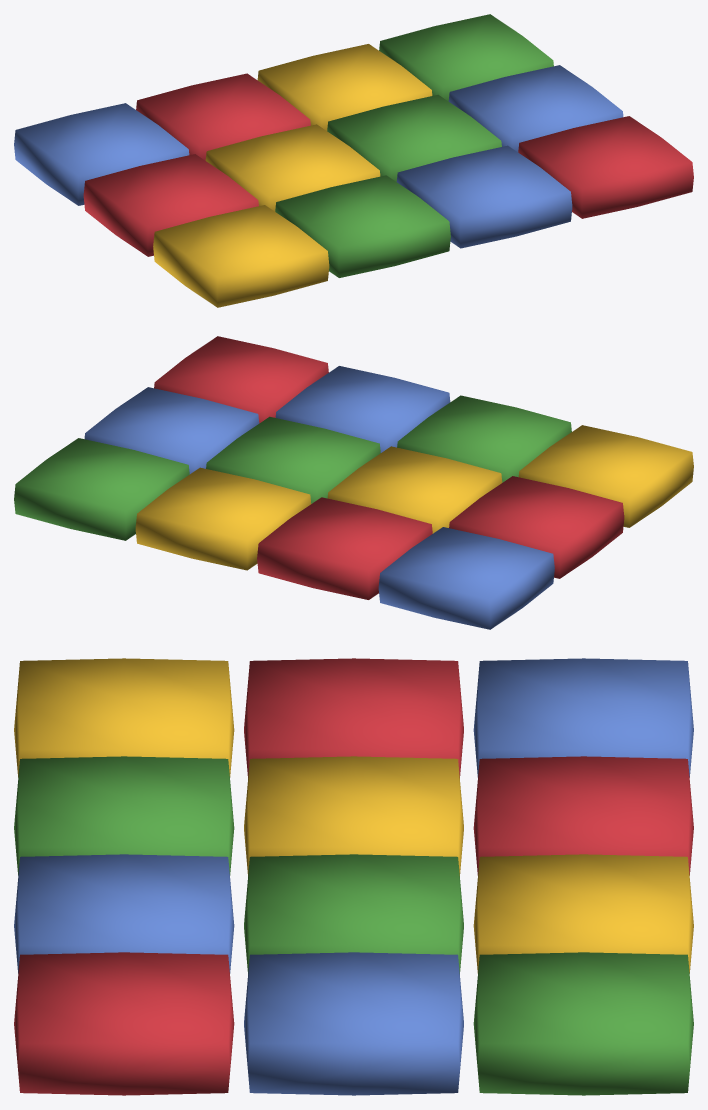
File: sponge_mat.glb
The picture shows the model from 3 angles, top to bottom: view 1: azimuth 30°, elevation 25°; view 2: azimuth 150°, elevation 25°; view 3: azimuth 270°, elevation 25°; orthographic projection. The views are drawn at different scales.
Visible parts, largest first — view 1: root; view 2: root; view 3: root.
Boxes of the visible parts, x1,y1,x2,y2 form: root: (14, 14, 693, 307); root: (14, 336, 693, 629); root: (14, 658, 693, 1095).
Bounding box in the file's own units: 3.86 × 0.28 × 2.86.
